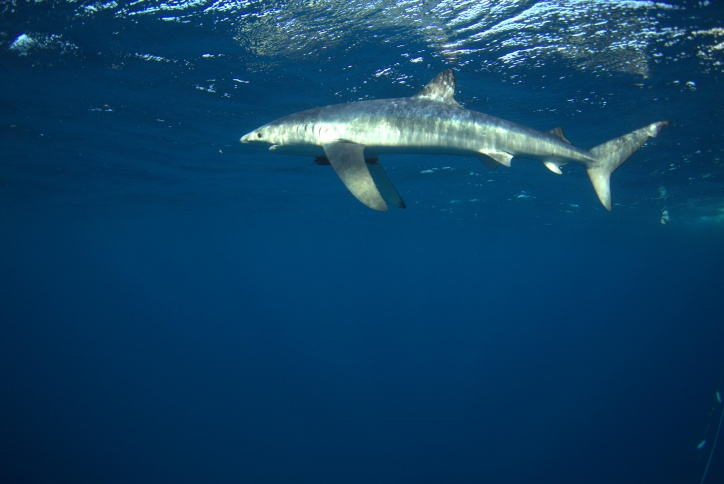Azul: (217, 34, 691, 264)
